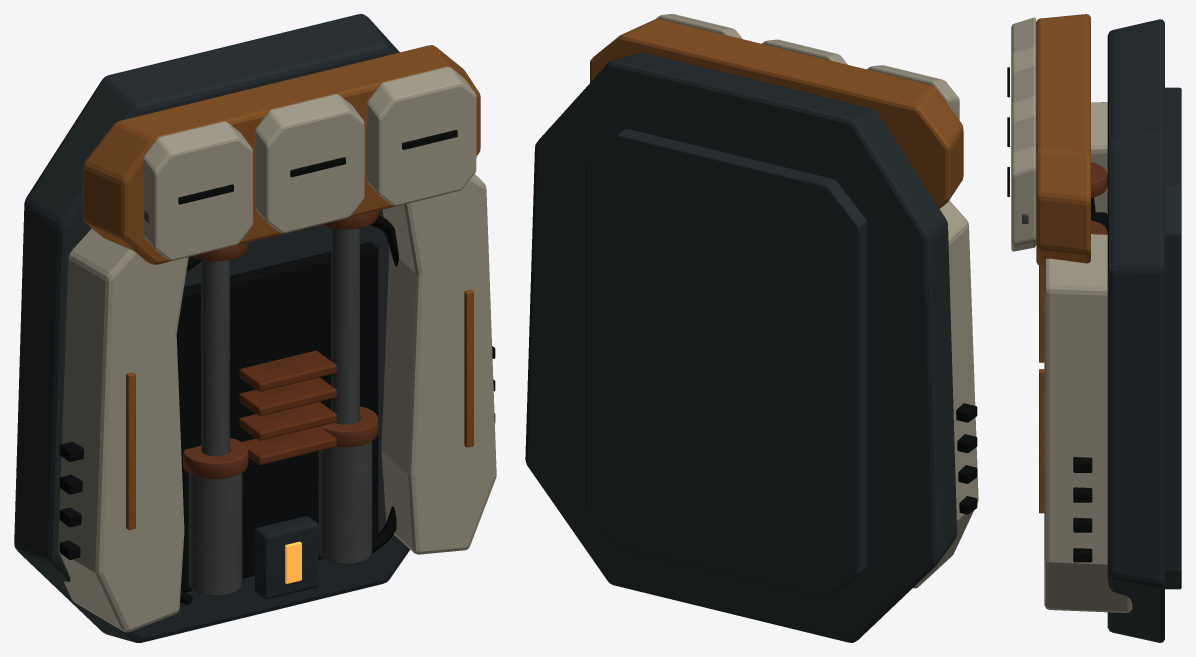
Rendered from pelto_smash.glb.
3 renders of one model, left to right at view 1: azimuth 30°, elevation 25°; view 2: azimuth 150°, elevation 25°; view 3: azimuth 270°, elevation 25°, orthographic. The views are drawn at different scales.
Visible parts, largest first — view 1: ivory, steel, rubber, edge, paint, copper, amber; view 2: steel, paint, ivory, rubber; view 3: steel, ivory, paint, rubber, copper.
Boxes of the visible parts, x1=… form: ivory: x1=58, y1=66, x2=496, y2=632; steel: x1=14, y1=14, x2=410, y2=642; rubber: x1=59, y1=130, x2=495, y2=605; edge: x1=144, y1=210, x2=372, y2=595; paint: x1=82, y1=45, x2=480, y2=529; copper: x1=183, y1=211, x2=378, y2=478; amber: x1=285, y1=541, x2=301, y2=583; steel: x1=525, y1=52, x2=956, y2=642; paint: x1=590, y1=19, x2=963, y2=208; ivory: x1=656, y1=14, x2=978, y2=588; rubber: x1=956, y1=403, x2=977, y2=514; steel: x1=1107, y1=19, x2=1181, y2=642; ivory: x1=1011, y1=17, x2=1132, y2=612; paint: x1=1036, y1=14, x2=1090, y2=513; rubber: x1=1007, y1=67, x2=1107, y2=562; copper: x1=1091, y1=162, x2=1107, y2=234.
Size of the model in its own units: 0.1692 by 0.2052 by 0.0635.
7 materials, 6 textured.
